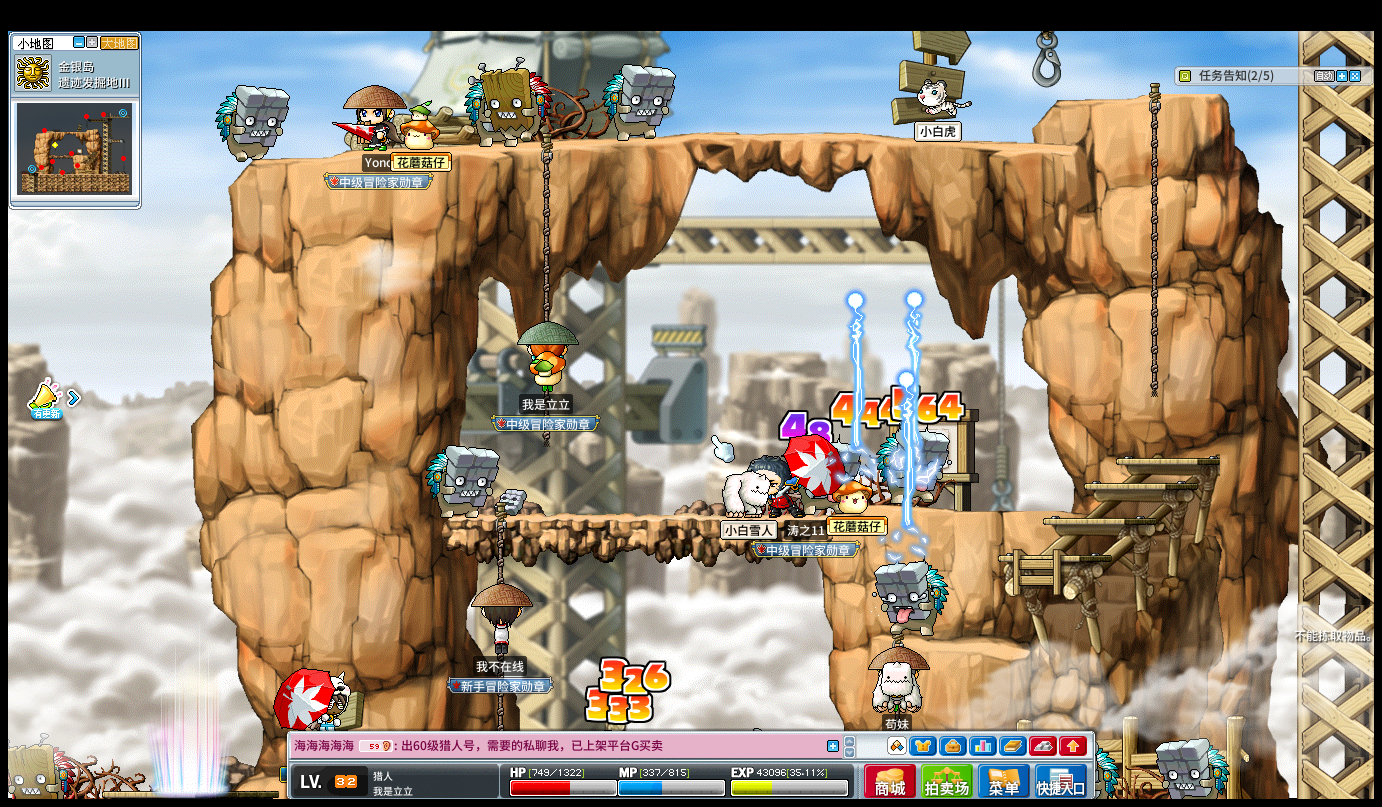floor: (236, 128, 1093, 163), (449, 513, 822, 524), (1053, 88, 1210, 104), (917, 638, 1029, 658), (878, 505, 1080, 516), (903, 507, 1079, 518), (1114, 455, 1218, 466), (996, 553, 1109, 562), (1042, 516, 1154, 525), (1079, 481, 1197, 489)
monster: (462, 59, 550, 148), (215, 83, 291, 164), (872, 560, 948, 640), (603, 63, 677, 142), (876, 428, 948, 506), (424, 445, 498, 518), (4, 736, 71, 797), (1155, 739, 1227, 795), (1088, 751, 1119, 797)
rope: (1146, 75, 1160, 403), (540, 130, 551, 421), (541, 129, 552, 340), (491, 509, 505, 582)
